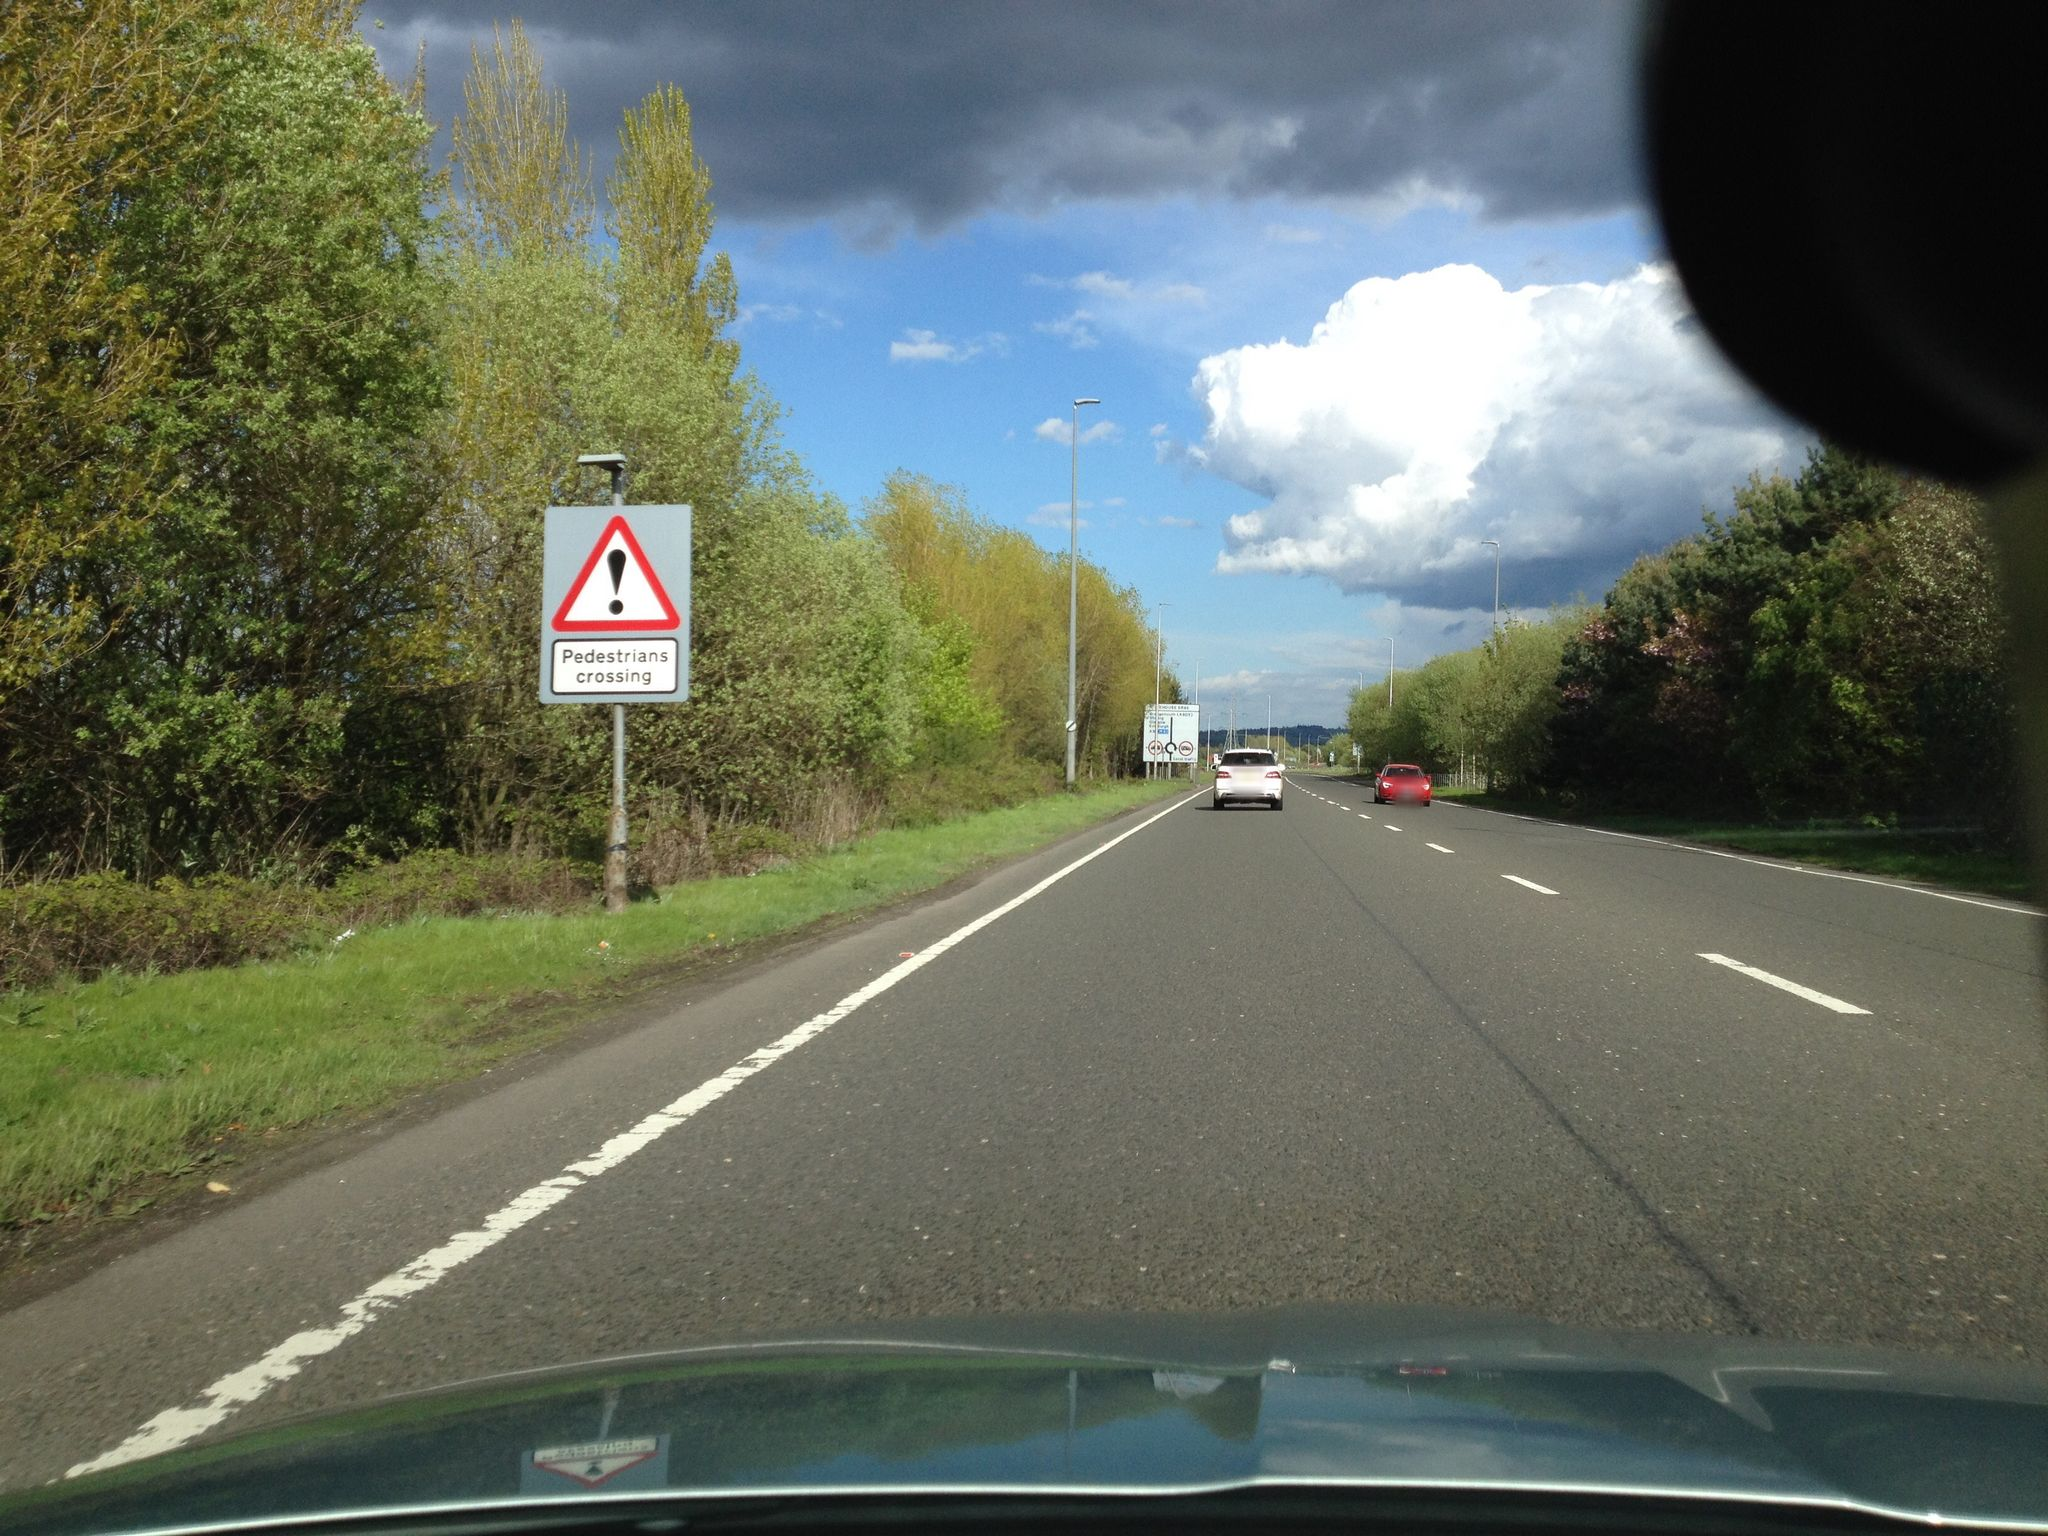car: (1209, 747, 1285, 812), (1372, 763, 1432, 807)
